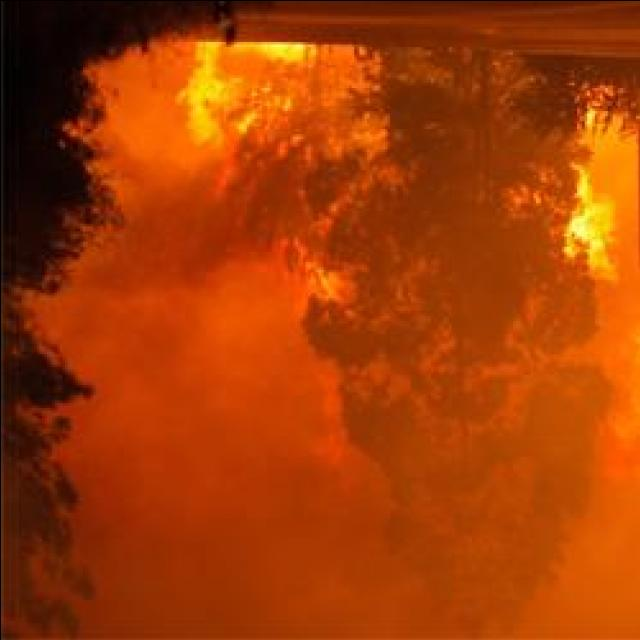fire: (175, 42, 312, 142), (569, 180, 615, 278)
smoke: (94, 187, 262, 317), (92, 320, 194, 435), (259, 348, 332, 492)
